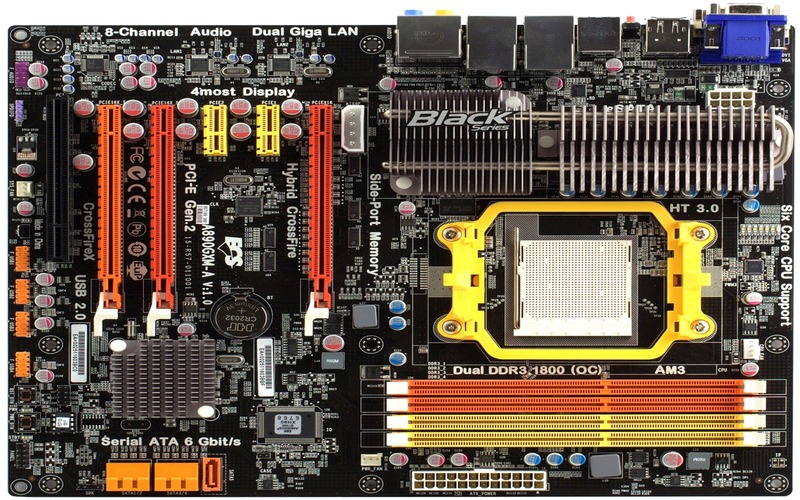Cirtuit-Board: (8, 14, 800, 500)
